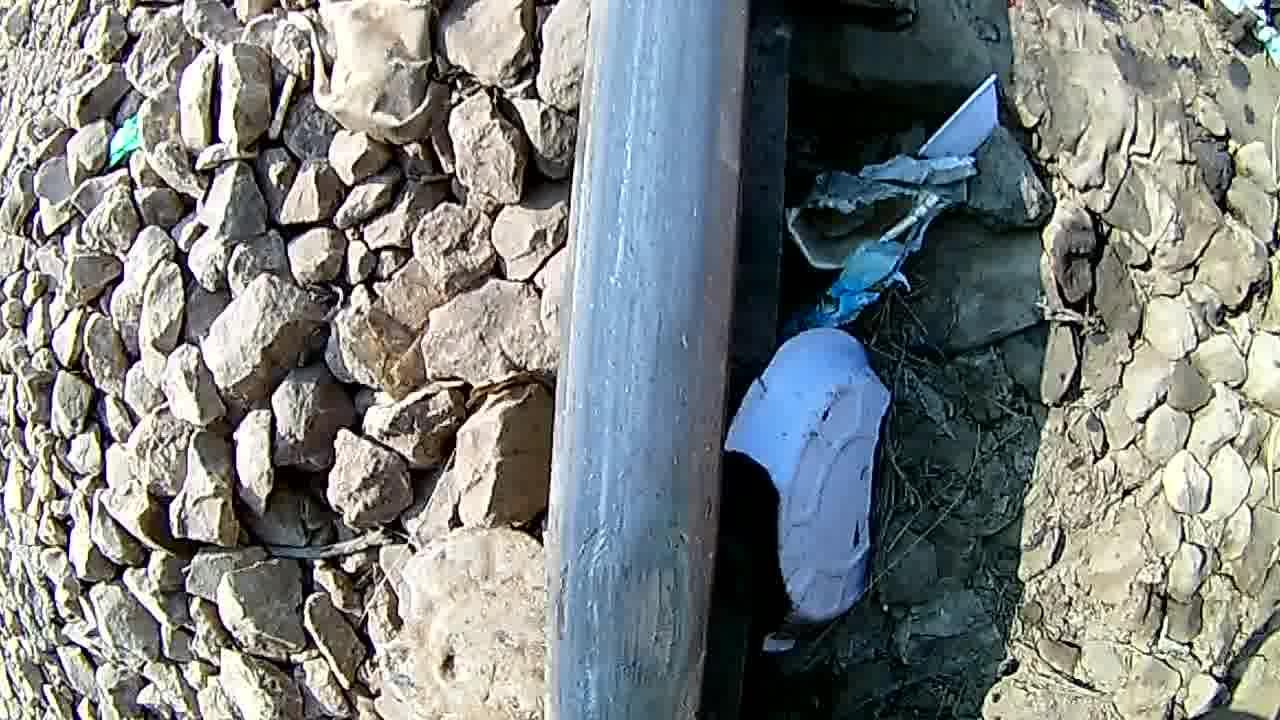bolt_missing: (528, 410, 742, 720)
